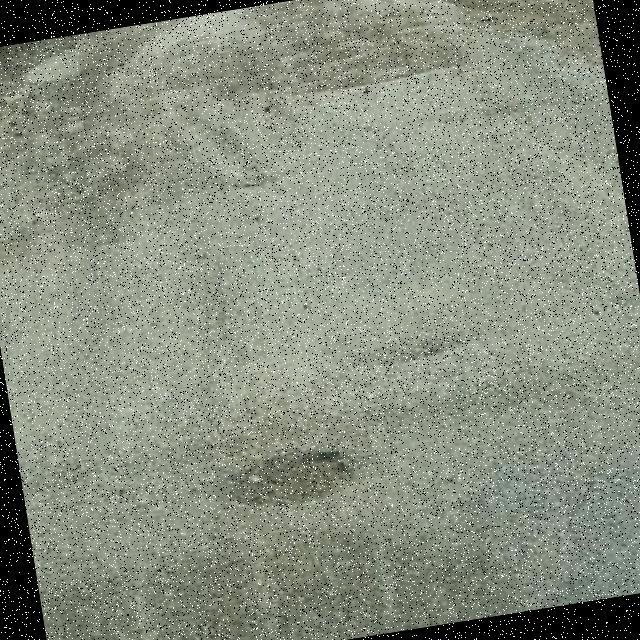Pothole: (229, 450, 354, 510)
